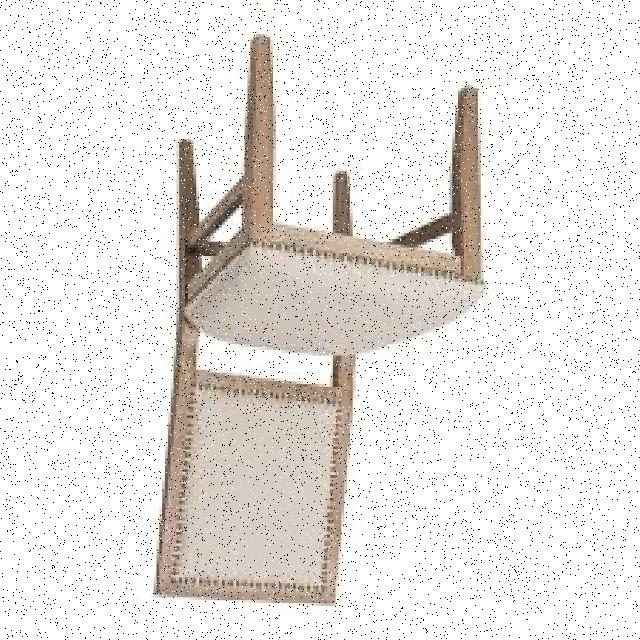bottle: (152, 31, 486, 607)
